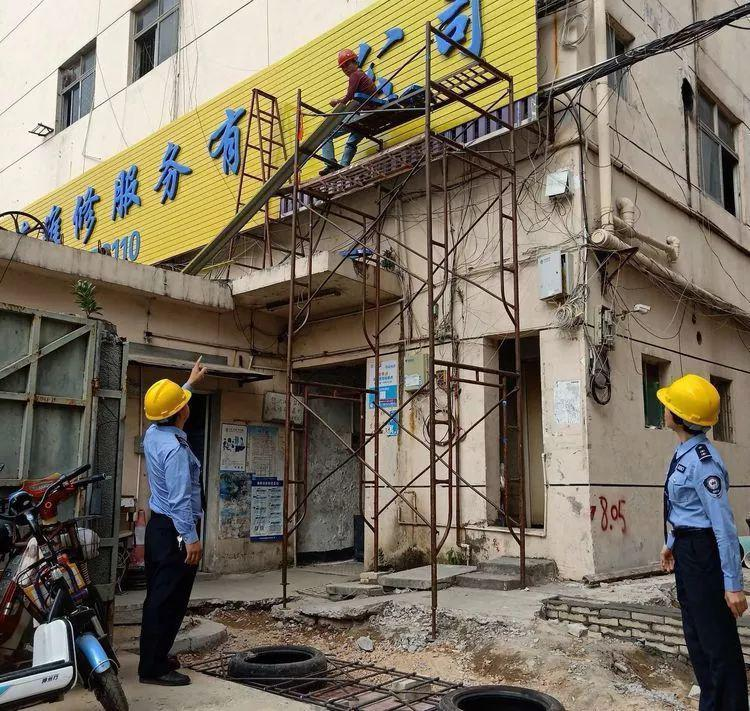helmet: (652, 368, 721, 439), (138, 372, 196, 434), (333, 44, 359, 77)
